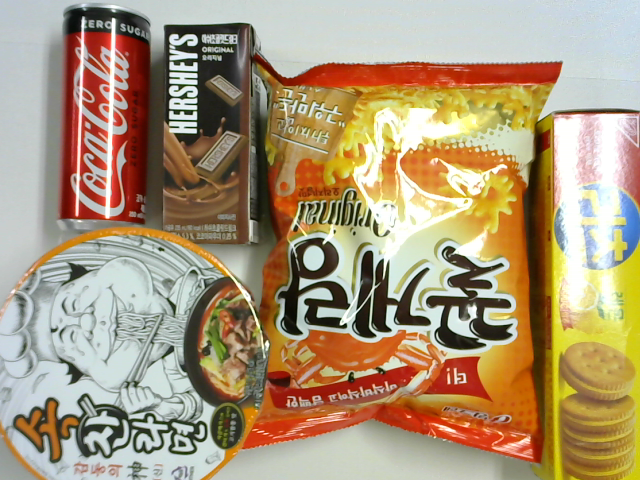Coca_Cola_Zero_Can_250ml: (55, 3, 151, 233)
Crabrang: (238, 60, 565, 466)
Hejangchan: (5, 225, 267, 480)
Hush_Choco_Drink: (159, 22, 261, 246)
Ritz_Remon_96g: (530, 107, 639, 480)
